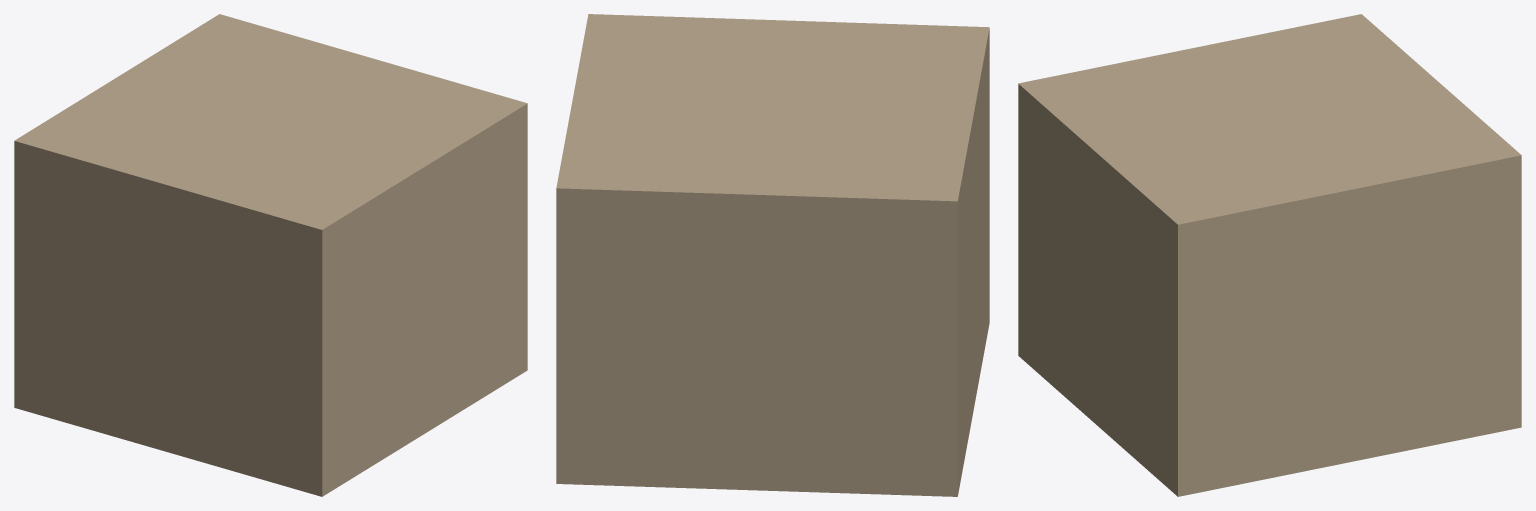
Rendered from bld_101805870.dae.
3 renders of one model, left to right at view 1: azimuth 30°, elevation 25°; view 2: azimuth 150°, elevation 25°; view 3: azimuth 270°, elevation 25°, orthographic. The views are drawn at different scales.
Parts seen in each view (by area): view 1: bld_101805870; view 2: bld_101805870; view 3: bld_101805870.
Part boxes in pixels (bbox=[...]): bld_101805870: bbox=[14, 14, 527, 496]; bld_101805870: bbox=[556, 14, 989, 496]; bld_101805870: bbox=[1018, 14, 1521, 496].
Bounding box in the file's own units: 13.28 × 13.41 × 8.
